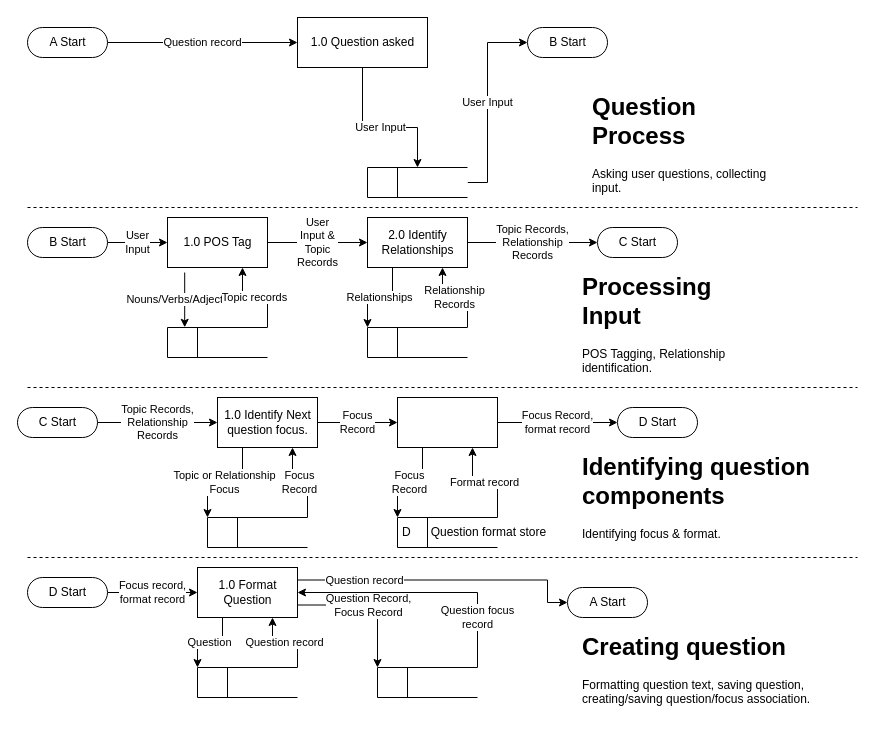
Image size: 876x755. Some labels were removed from this diagram. The shapes that lost their labels are listed below. From the top down, each one's centre as x and y in pixels, then its label:
(417,182): D Answer Store
(217,342): D Topic Store
(417,342): D Relationship Store
(447,422): 2.0 Identify question format
(257,532): D Focus Store
(247,682): D Question Store
(427,682): D Question Focus Store
